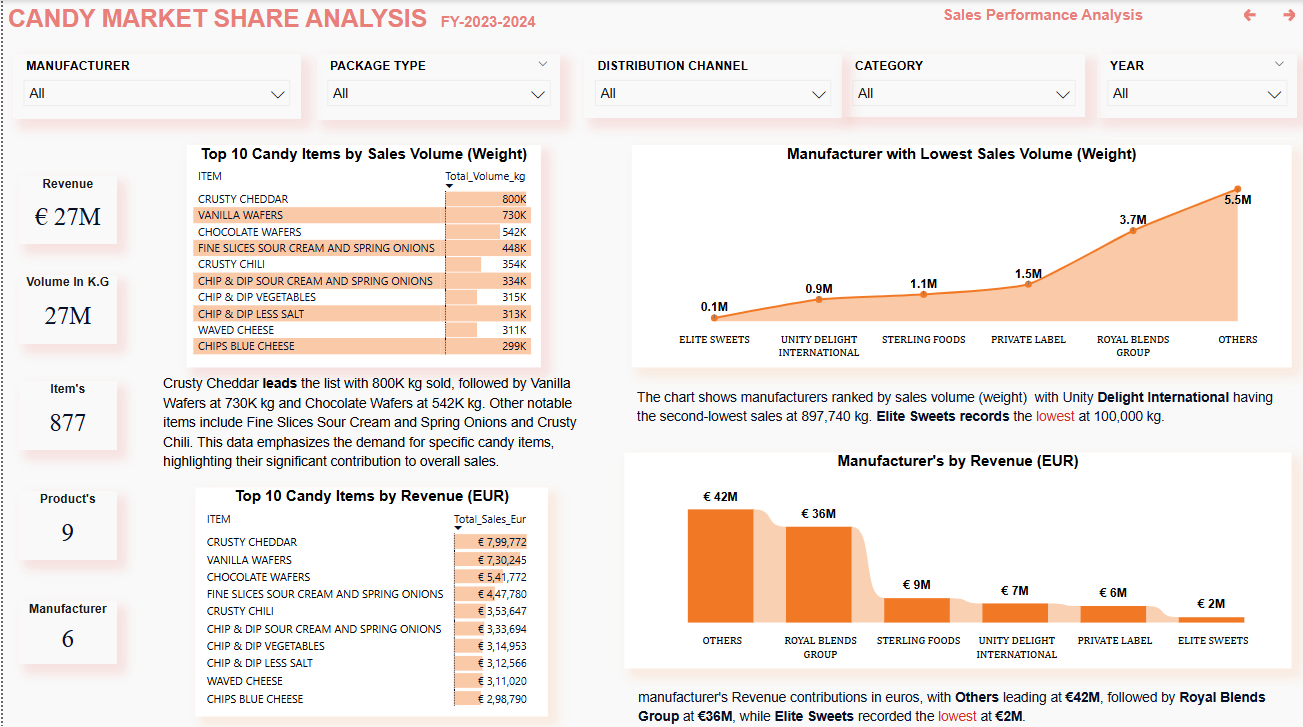

What the dashboard file says about the page in this screenshot:
{"tool":"powerbi","page":{"name":"sales_performance_analysisp1","canvas":[1280,720],"ordinal":0},"visuals":[{"type":"slicer","fields":{"Values":["Data.YEAR"]},"box":[1070,52.5,196.2,62.5],"z":0},{"type":"slicer","fields":{"Values":["Data.CATEGORY"]},"box":[820,52.5,238.8,61.2],"z":1000},{"type":"slicer","fields":{"Values":["Data.DISTRIBUTION CHANNEL"]},"box":[568.6,52.6,251.9,63.6],"z":2000},{"type":"slicer","fields":{"Values":["Data.PACKAGE TYPE"]},"box":[307.5,52.5,238.8,65],"z":3000},{"type":"slicer","title":"MANUFACTURER","fields":{"Values":["Data.MANUFACTURER"]},"box":[10,52.5,281.2,63.8],"z":4000},{"type":"card","title":"Volume In K.G","fields":{"Values":["measure.Total_Volume_kg"]},"box":[16.2,268.8,95,67.5],"z":5000},{"type":"card","title":"Revenue","fields":{"Values":["measure.Total_Sales_Eur"]},"box":[16.2,172.5,95,66.2],"z":6000},{"type":"card","title":"Product''s","fields":{"Values":["measure.Total_Product"]},"box":[16.2,480,95,67.5],"z":7000},{"type":"card","title":"Manufacturer","fields":{"Values":["measure.Total_Manufacturer"]},"box":[16.2,588.8,95,61.2],"z":8000},{"type":"card","title":"Item''s","fields":{"Values":["measure.Total_Item"]},"box":[16.2,372.5,95,67.5],"z":9000},{"type":"tableEx","title":"Top 10 Candy Items by Sales Volume (Weight) ","fields":{"Values":["Data.ITEM","measure.Total_Volume_kg"]},"box":[179.8,141.8,346.1,217.7],"z":10000},{"type":"tableEx","title":"Top 10 Candy Items by Revenue (EUR) ","fields":{"Values":["Data.ITEM","measure.Total_Sales_Eur"]},"box":[188.3,476.9,344.8,223.8],"z":11000},{"type":"columnChart","title":"Manufacturer''s by Revenue (EUR)","fields":{"Y":["measure.Total Sales 2022"],"Category":["Data.MANUFACTURER"]},"box":[607.7,442.7,653,211.6],"z":12000},{"type":"areaChart","title":"Manufacturer with Lowest Sales Volume (Weight) ","fields":{"Category":["Data.MANUFACTURER"],"Y":["measure.Total Weight Sales 2023"]},"box":[615.1,141.8,645.7,217.7],"z":13000},{"type":"textbox","box":[0,0,614.5,64.9],"z":14000},{"type":"textbox","box":[151.8,359.9,416.2,132.2],"z":15000},{"type":"textbox","box":[615.1,373,645.7,62.4],"z":16000},{"type":"textbox","box":[616.3,666.4,635.9,52.6],"z":17000},{"type":"textbox","box":[904.7,0,220.4,33.1],"z":18000},{"type":"actionButton","box":[1204.6,0,46.5,29.4],"z":19000},{"type":"actionButton","box":[1242.5,0,33.1,29.4],"z":20000}]}

Visuals, with their boxes in screenshot pixels (x1, y1, x2, y2), scaled from the page's 1280x720 canvas onto the 1303x727 screenshot:
slicer - Data.YEAR: pyautogui.locateOnScreen(1089, 53, 1289, 116)
slicer - Data.CATEGORY: pyautogui.locateOnScreen(835, 53, 1078, 115)
slicer - Data.DISTRIBUTION CHANNEL: pyautogui.locateOnScreen(579, 53, 835, 117)
slicer - Data.PACKAGE TYPE: pyautogui.locateOnScreen(313, 53, 556, 119)
"MANUFACTURER" slicer: pyautogui.locateOnScreen(10, 53, 296, 117)
"Volume In K.G" card: pyautogui.locateOnScreen(16, 271, 113, 340)
"Revenue" card: pyautogui.locateOnScreen(16, 174, 113, 241)
"Product''s" card: pyautogui.locateOnScreen(16, 485, 113, 553)
"Manufacturer" card: pyautogui.locateOnScreen(16, 595, 113, 656)
"Item''s" card: pyautogui.locateOnScreen(16, 376, 113, 444)
"Top 10 Candy Items by Sales Volume (Weight) " tableEx: pyautogui.locateOnScreen(183, 143, 535, 363)
"Top 10 Candy Items by Revenue (EUR) " tableEx: pyautogui.locateOnScreen(192, 482, 543, 708)
"Manufacturer''s by Revenue (EUR)" columnChart: pyautogui.locateOnScreen(619, 447, 1283, 661)
"Manufacturer with Lowest Sales Volume (Weight) " areaChart: pyautogui.locateOnScreen(626, 143, 1283, 363)
textbox: pyautogui.locateOnScreen(0, 0, 626, 66)
textbox: pyautogui.locateOnScreen(155, 363, 578, 497)
textbox: pyautogui.locateOnScreen(626, 377, 1283, 440)
textbox: pyautogui.locateOnScreen(627, 673, 1275, 726)
textbox: pyautogui.locateOnScreen(921, 0, 1145, 33)
actionButton: pyautogui.locateOnScreen(1226, 0, 1274, 30)
actionButton: pyautogui.locateOnScreen(1265, 0, 1299, 30)
